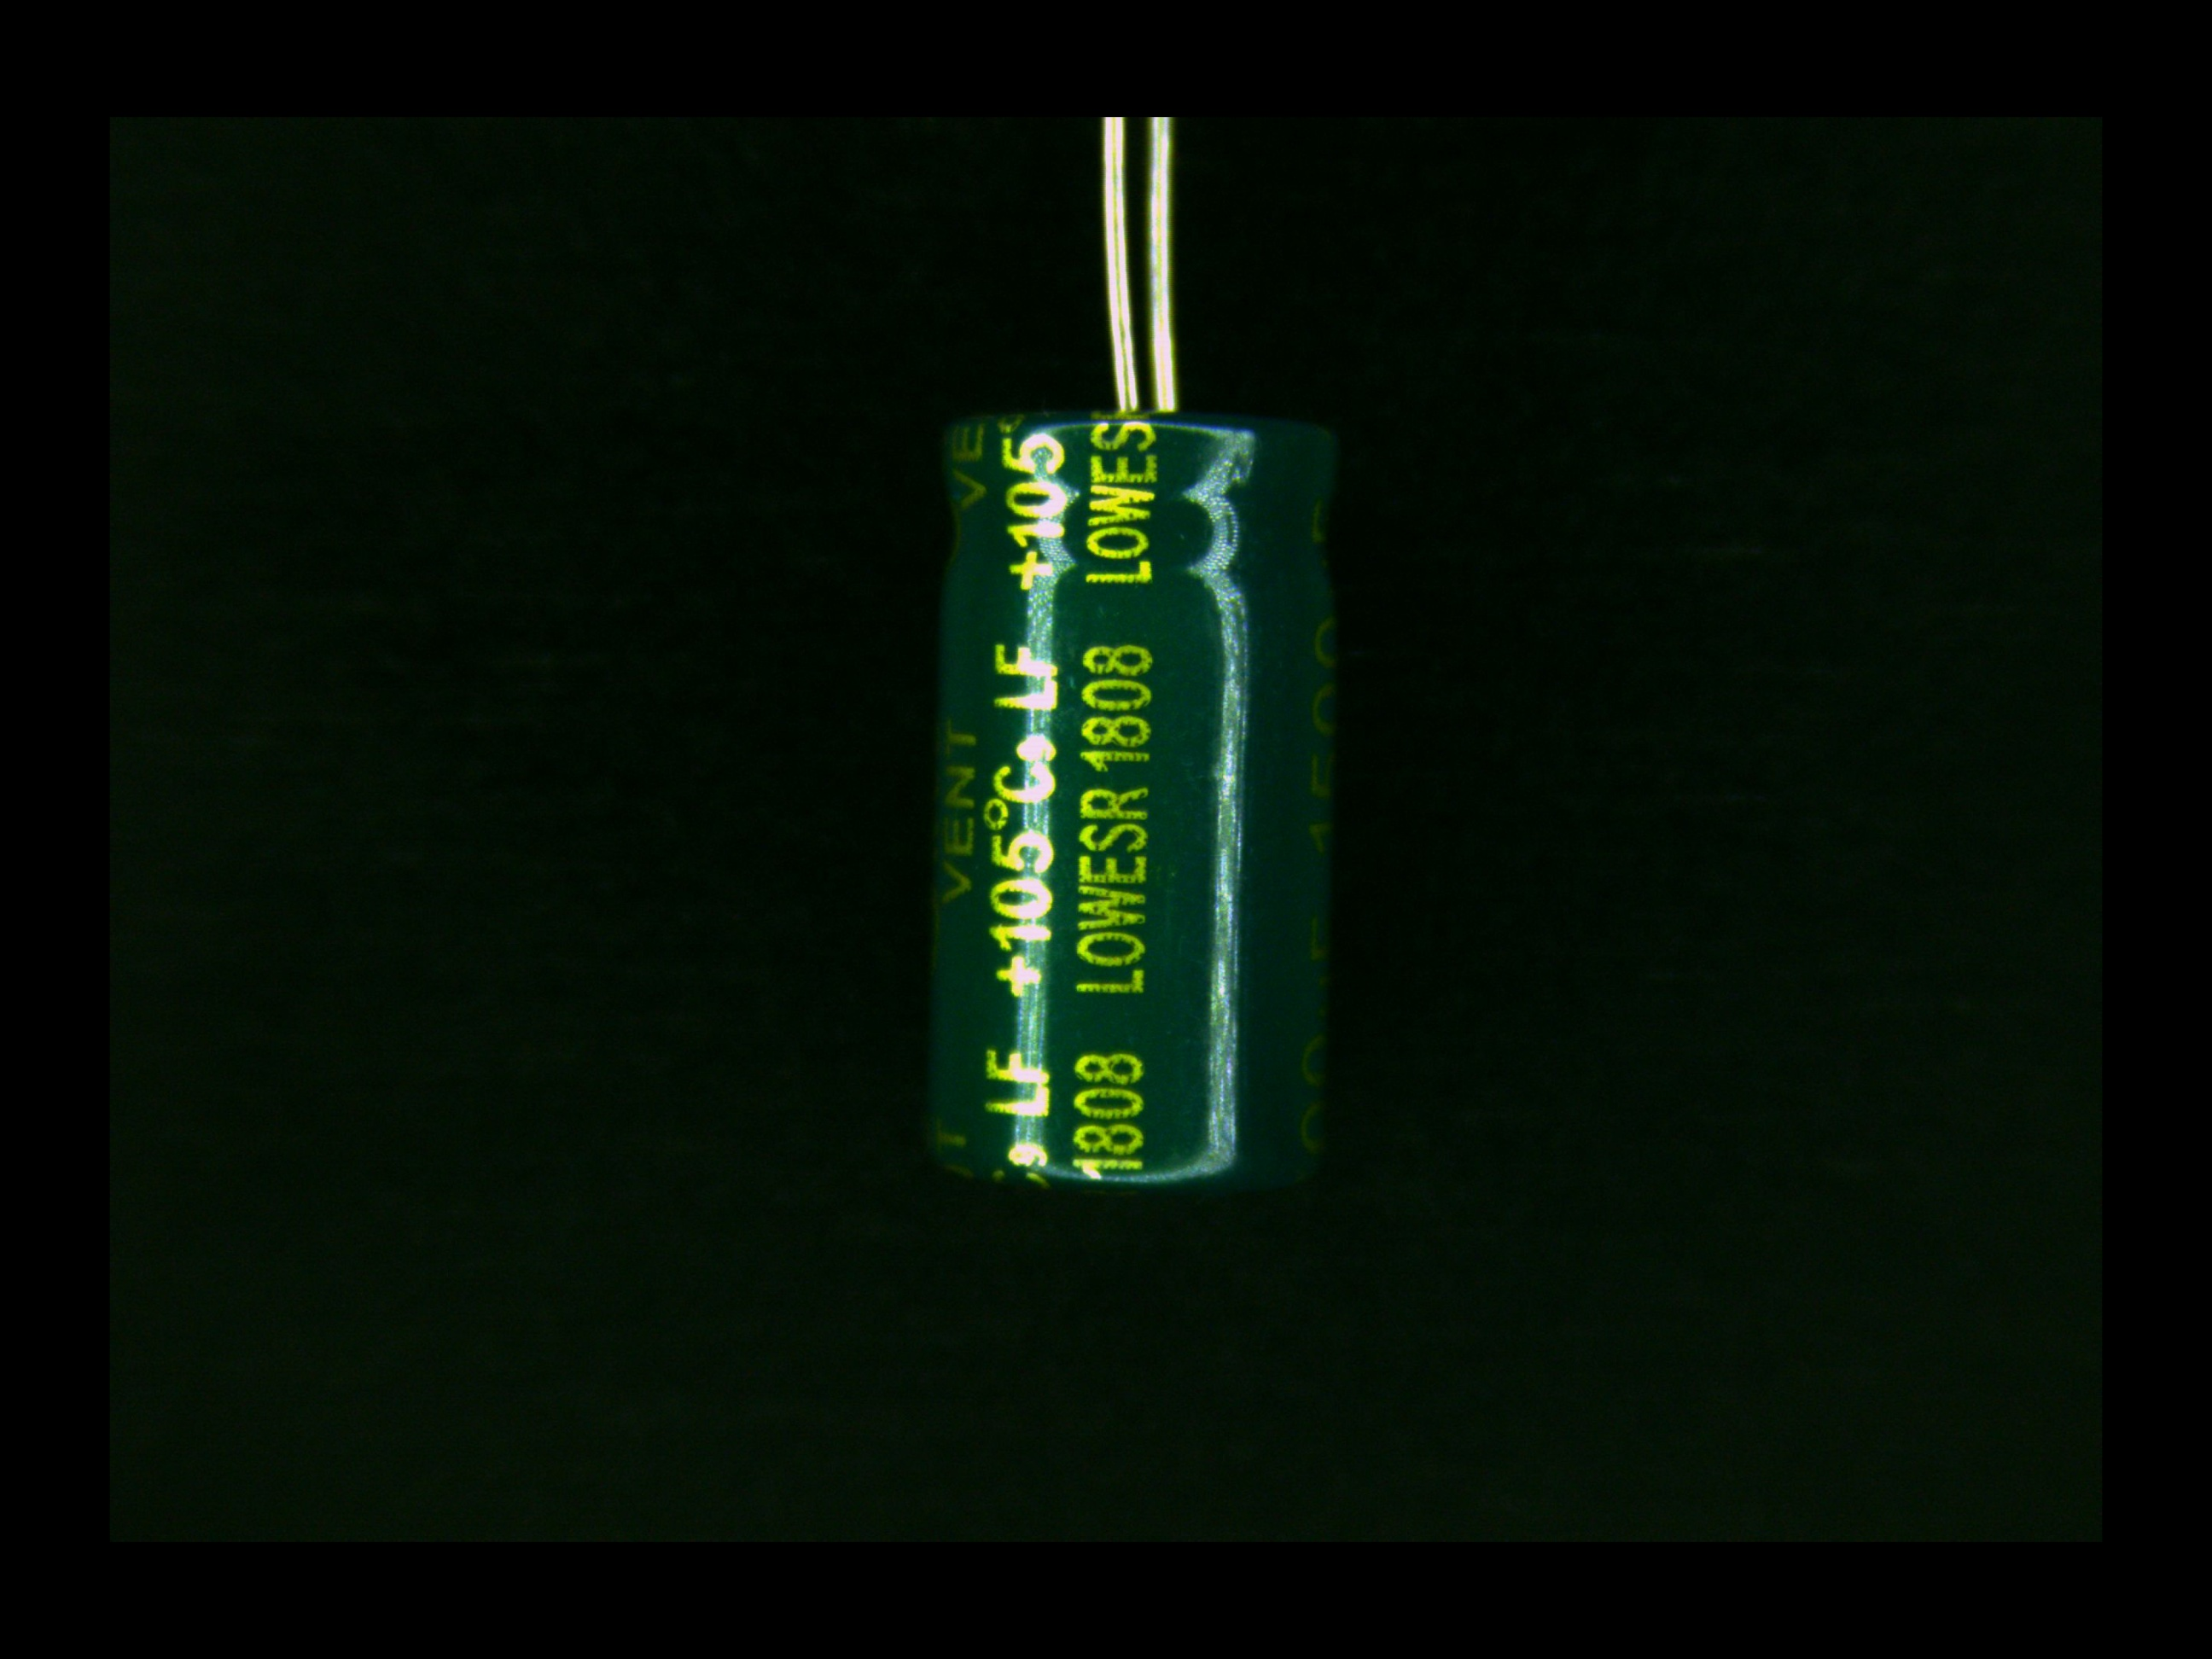c1: (921, 373, 1348, 1187)
